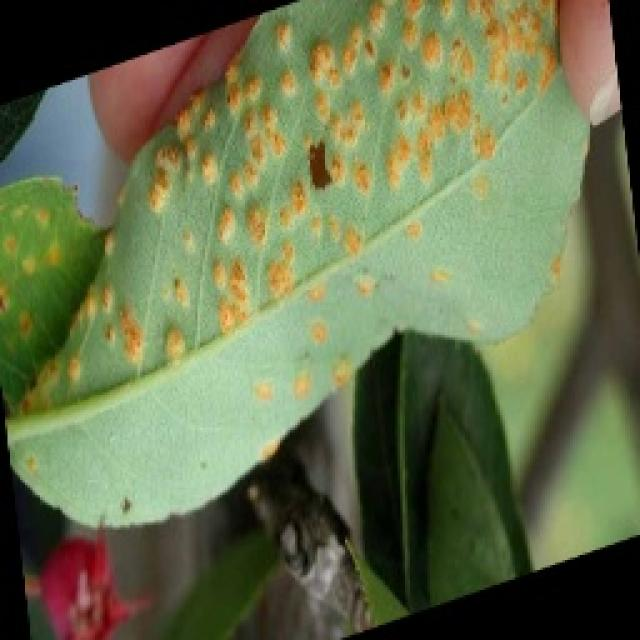Gymnosporangium_Rusts: (0, 0, 590, 530)
